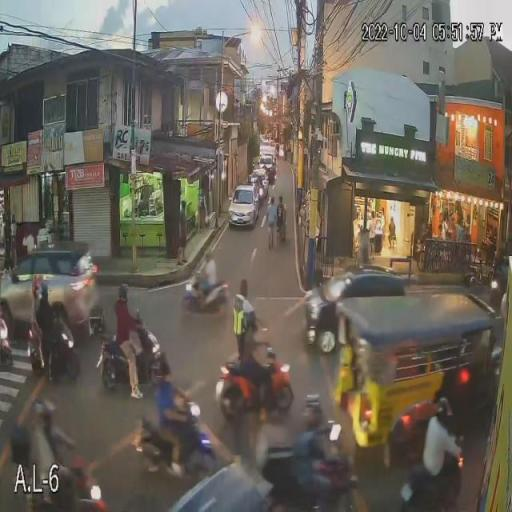helmet: (33, 394, 57, 428), (304, 393, 325, 421), (434, 394, 450, 426), (151, 366, 170, 388), (244, 310, 257, 331), (118, 286, 130, 306), (38, 274, 50, 292), (28, 276, 40, 292), (204, 251, 216, 261)
motorcycle: (259, 453, 371, 511), (132, 416, 222, 480), (215, 362, 298, 418), (21, 464, 112, 512), (94, 338, 174, 383), (393, 464, 466, 512), (24, 323, 82, 375), (184, 281, 231, 312)
rider: (236, 329, 274, 415), (153, 390, 191, 474), (36, 425, 74, 503), (299, 424, 333, 507), (116, 309, 144, 398), (426, 425, 460, 485), (38, 296, 60, 360), (28, 298, 46, 356), (200, 262, 216, 298)
